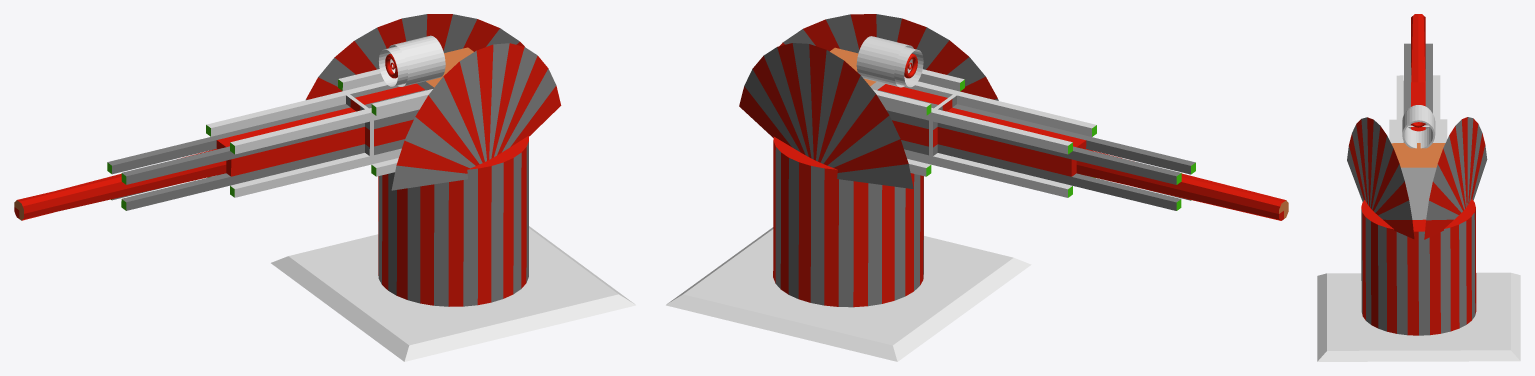
File: sniper tower.fbx
The picture shows the model from 3 angles, left to right: view 1: azimuth 30°, elevation 25°; view 2: azimuth 150°, elevation 25°; view 3: azimuth 270°, elevation 25°; orthographic projection. The views are drawn at different scales.
Visible parts, largest first — view 1: gunbarrer, draagcilinder, baseplate, sideplate 2, sideplate, scope; view 2: gunbarrer, draagcilinder, baseplate, sideplate, sideplate 2, scope; view 3: draagcilinder, baseplate, gunbarrer, sideplate 2, sideplate, scope.
Boxes of the visible parts, <box> form: gunbarrer: <box>14,47,473,220</box>; draagcilinder: <box>378,136,528,306</box>; baseplate: <box>271,226,635,361</box>; sideplate 2: <box>391,43,561,190</box>; sideplate: <box>305,14,524,100</box>; scope: <box>379,35,445,86</box>; gunbarrer: <box>830,47,1288,220</box>; draagcilinder: <box>773,136,923,307</box>; baseplate: <box>666,227,1031,361</box>; sideplate: <box>739,43,913,188</box>; sideplate 2: <box>779,14,998,100</box>; scope: <box>856,36,923,87</box>; draagcilinder: <box>1361,199,1476,335</box>; baseplate: <box>1317,272,1520,361</box>; gunbarrer: <box>1389,14,1447,219</box>; sideplate 2: <box>1347,117,1414,238</box>; sideplate: <box>1424,117,1487,239</box>; scope: <box>1402,105,1435,148</box>.
Size of the model in its own units: 475 by 209 by 200.
